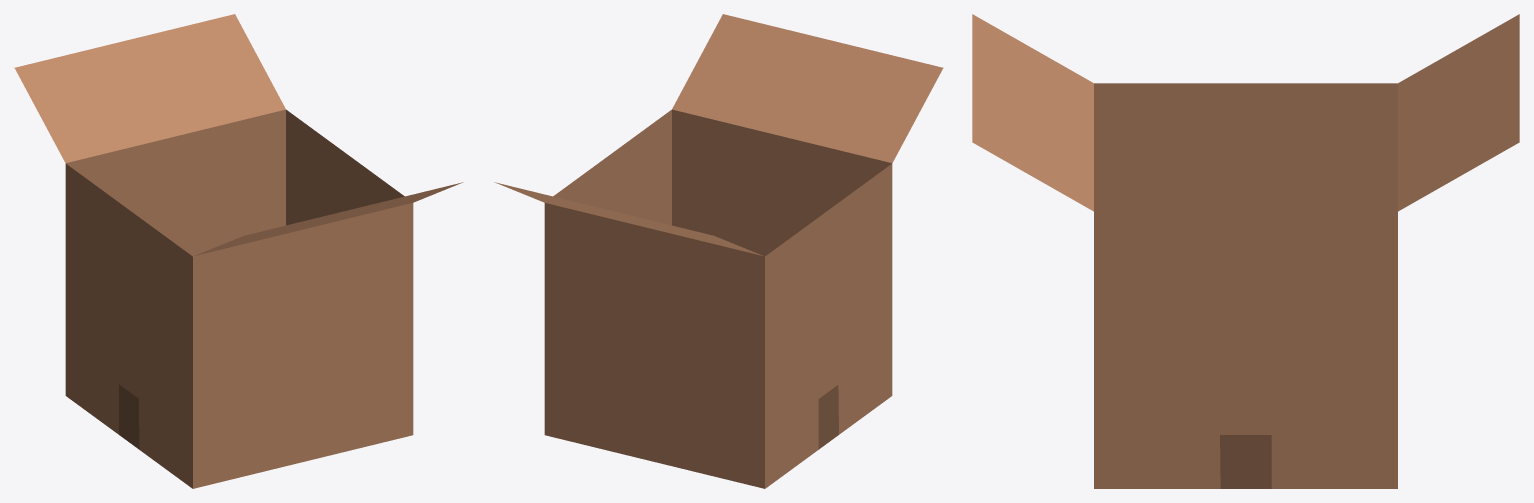
The picture shows the model from 3 angles, left to right: view 1: azimuth 30°, elevation 25°; view 2: azimuth 150°, elevation 25°; view 3: azimuth 270°, elevation 25°; orthographic projection. The views are drawn at different scales.
Visible parts, largest first — view 1: Plane; view 2: Plane; view 3: Plane.
Part boxes in pixels (x1,y1,x2,y2): Plane: [14, 14, 463, 488]; Plane: [494, 14, 943, 488]; Plane: [972, 14, 1519, 488].
Size of the model in its own units: 397 by 500 by 716.
